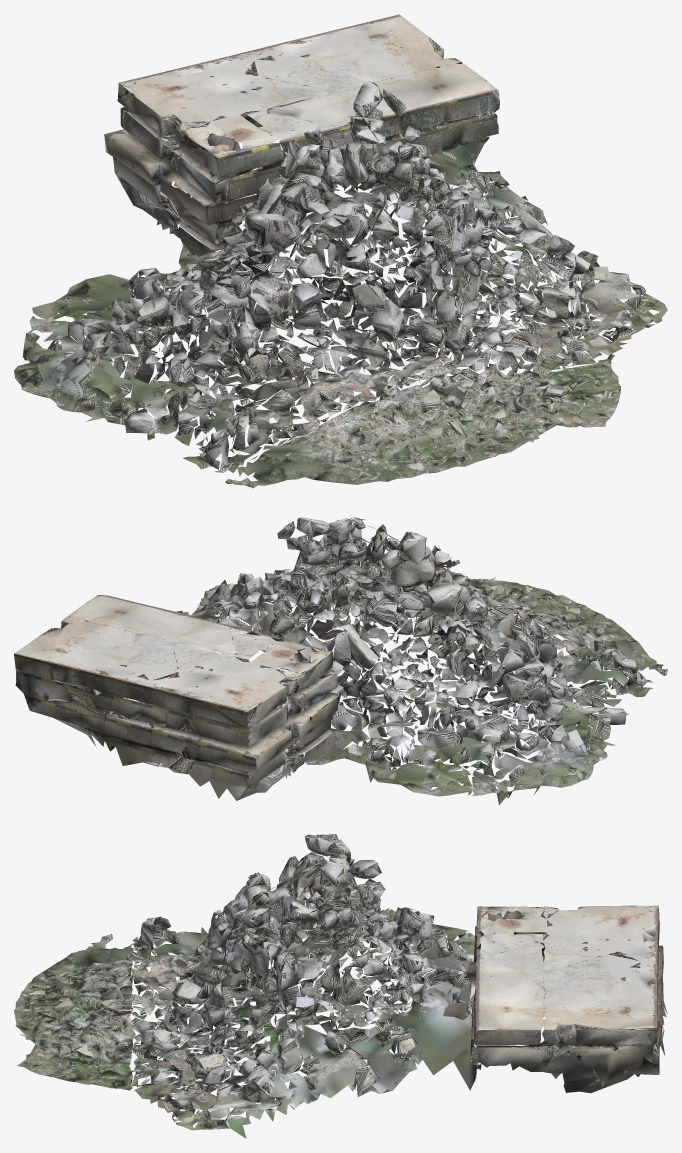
File: rubble-pile.glb
3 renders of one model, top to bottom at view 1: azimuth 30°, elevation 25°; view 2: azimuth 150°, elevation 25°; view 3: azimuth 270°, elevation 25°, orthographic. The views are drawn at different scales.
Parts seen in each view (by area): view 1: scan-0; view 2: scan-0; view 3: scan-0.
Part boxes in pixels (x1=…): scan-0: x1=14, y1=14, x2=667, y2=488; scan-0: x1=14, y1=517, x2=667, y2=805; scan-0: x1=14, y1=834, x2=667, y2=1138.
Bounding box in the file's own units: 4.84 × 2 × 5.6.
Materials: 4 (4 with a texture image).
